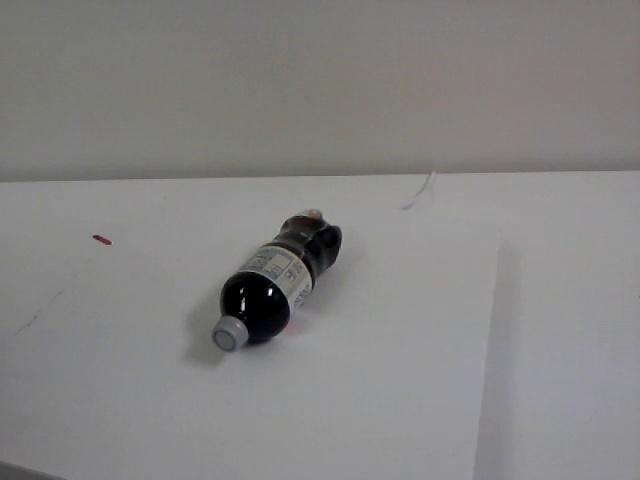bottle-plastic: (207, 204, 350, 357)
